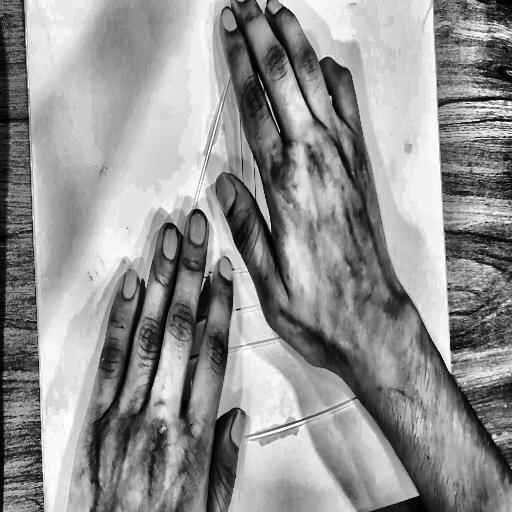boat: (97, 0, 407, 475)
bottom_right: (453, 458, 464, 478)
